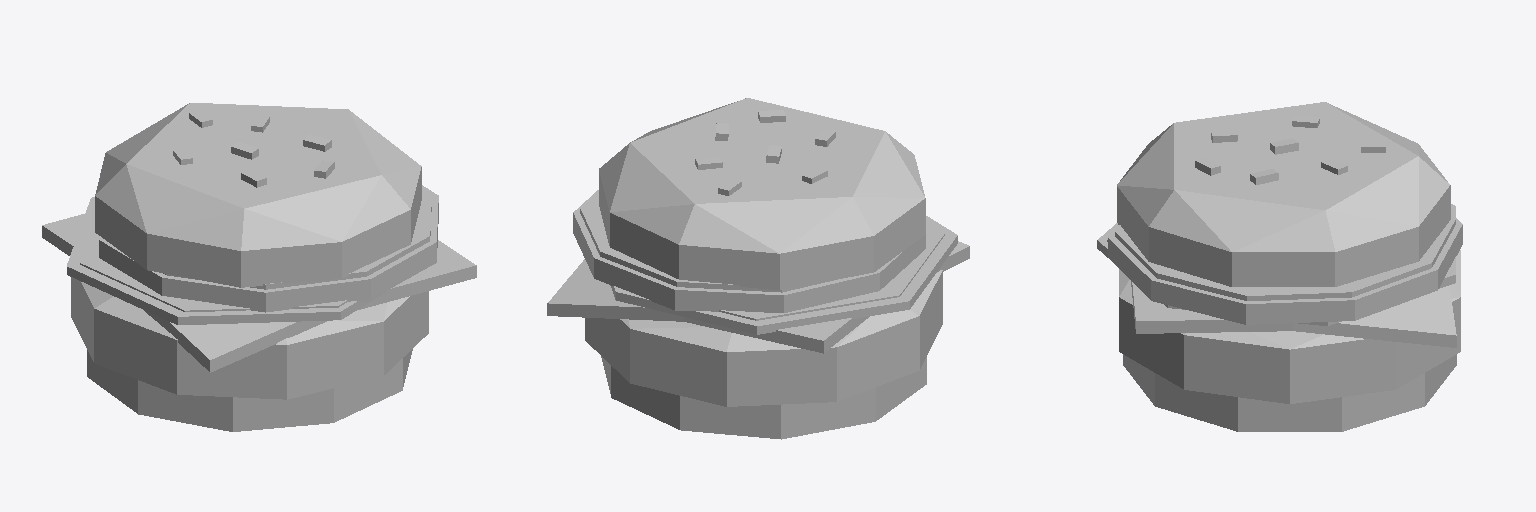
Rendered from Hamburger.obj.
3 views of the same model, side by side, from view 1: azimuth 30°, elevation 25°; view 2: azimuth 150°, elevation 25°; view 3: azimuth 270°, elevation 25° (orthographic).
Visible parts, largest first — view 1: group[number redacted], group[number redacted], group[number redacted], group[number redacted], group[number redacted], group[number redacted]; view 2: group[number redacted], group[number redacted], group[number redacted], group[number redacted], group[number redacted], group[number redacted]; view 3: group[number redacted], group[number redacted], group[number redacted], group[number redacted], group[number redacted], group[number redacted].
Boxes of the visible parts, box(x1,y1,x2,y2) form: group[number redacted]: box(95, 103, 421, 287); group[number redacted]: box(71, 277, 428, 399); group[number redacted]: box(87, 349, 412, 431); group[number redacted]: box(99, 185, 438, 312); group[number redacted]: box(42, 214, 476, 372); group[number redacted]: box(67, 197, 385, 324); group[number redacted]: box(599, 98, 925, 289); group[number redacted]: box(585, 270, 942, 406); group[number redacted]: box(573, 190, 925, 312); group[number redacted]: box(601, 356, 926, 439); group[number redacted]: box(610, 216, 957, 334); group[number redacted]: box(547, 241, 969, 353); group[number redacted]: box(1117, 102, 1450, 286); group[number redacted]: box(1119, 250, 1460, 403); group[number redacted]: box(1108, 213, 1462, 324); group[number redacted]: box(1123, 354, 1456, 431); group[number redacted]: box(1131, 281, 1456, 347); group[number redacted]: box(1097, 204, 1455, 325).
Bounding box in the file's own units: 0.5955 × 0.3762 × 0.5689.